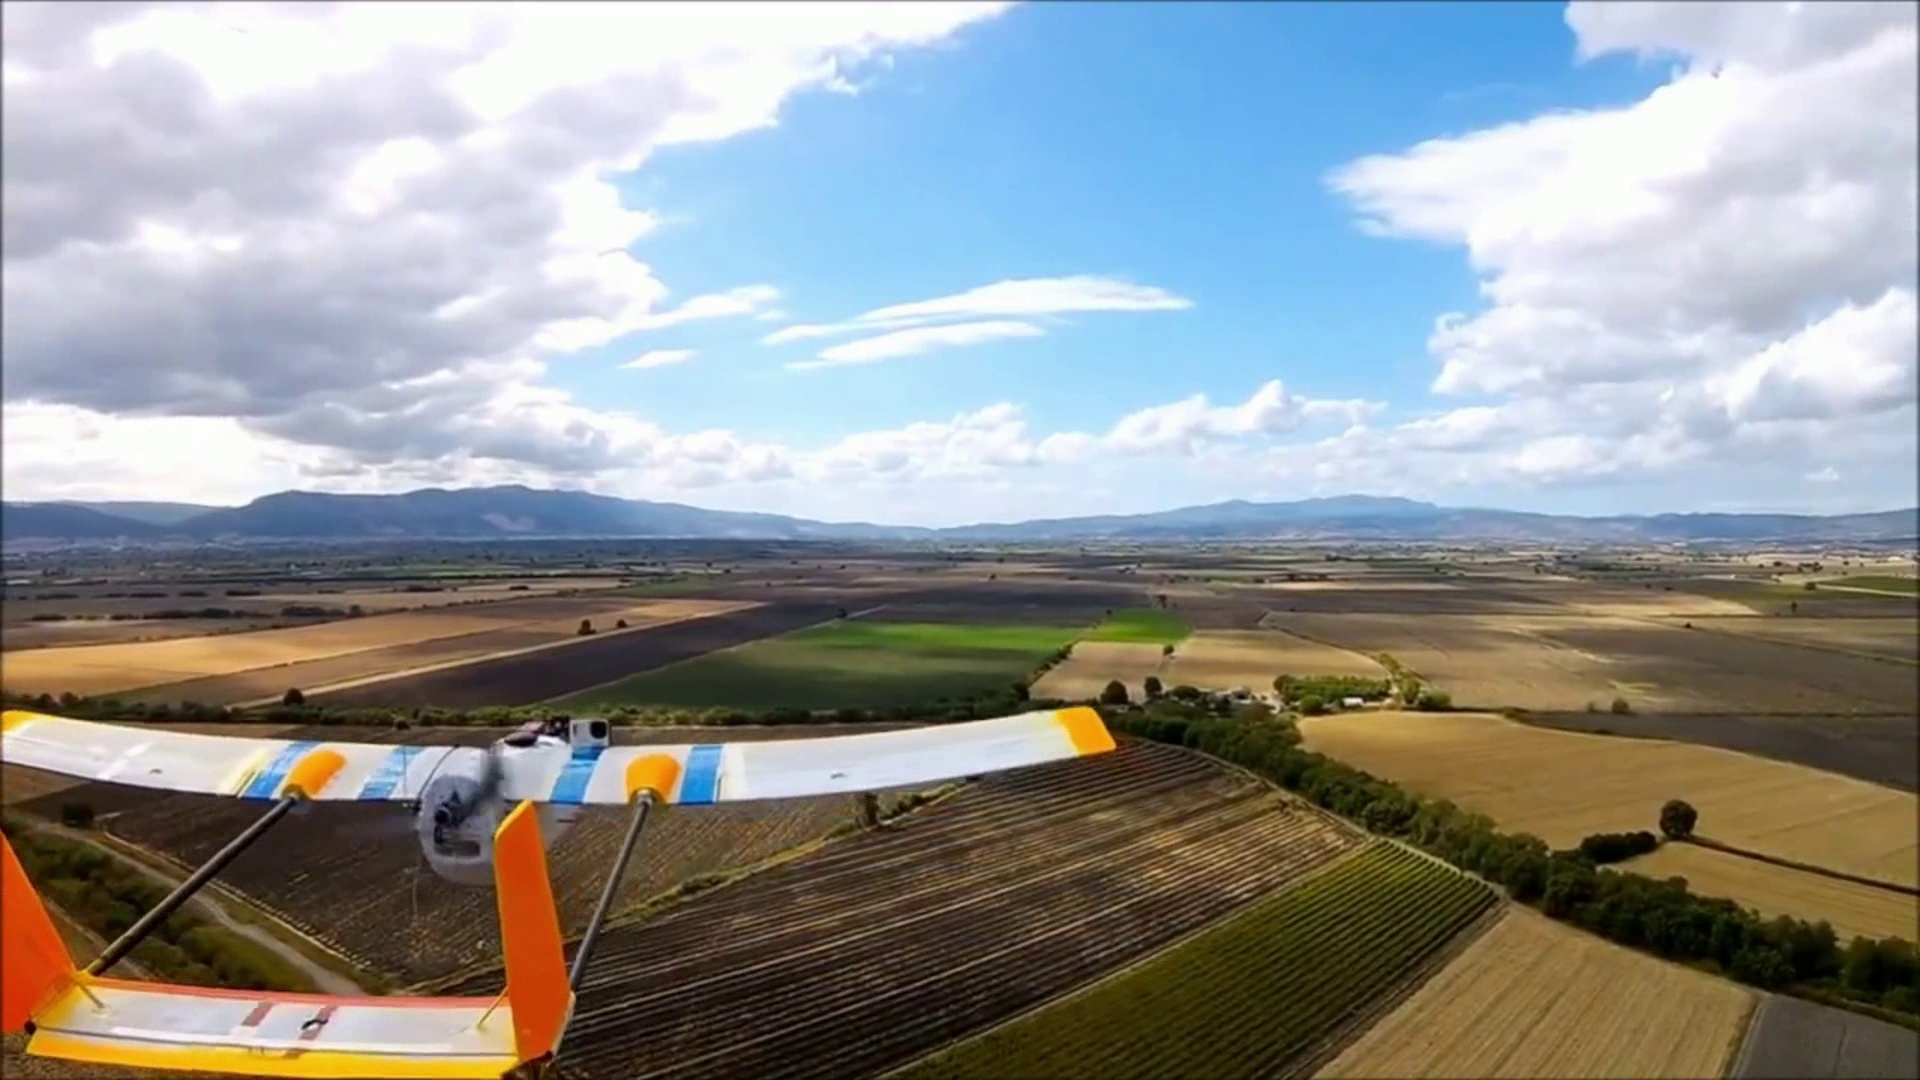airplane: (5, 704, 1128, 1068)
